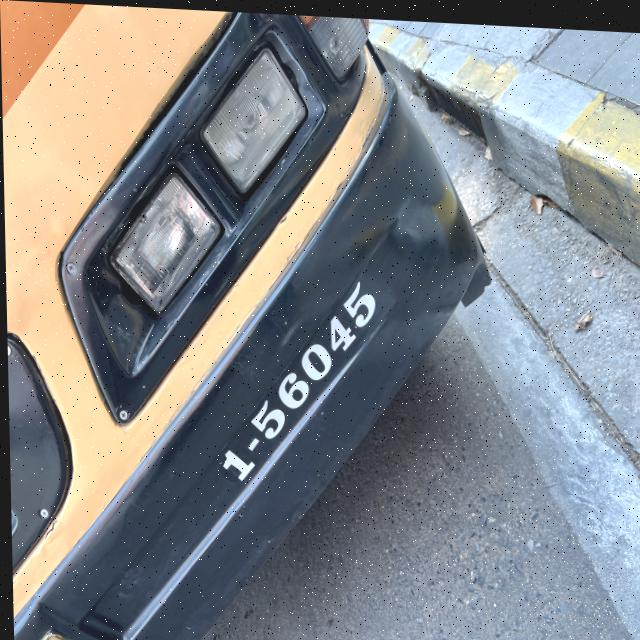BMTA-bus: (0, 0, 503, 640)
